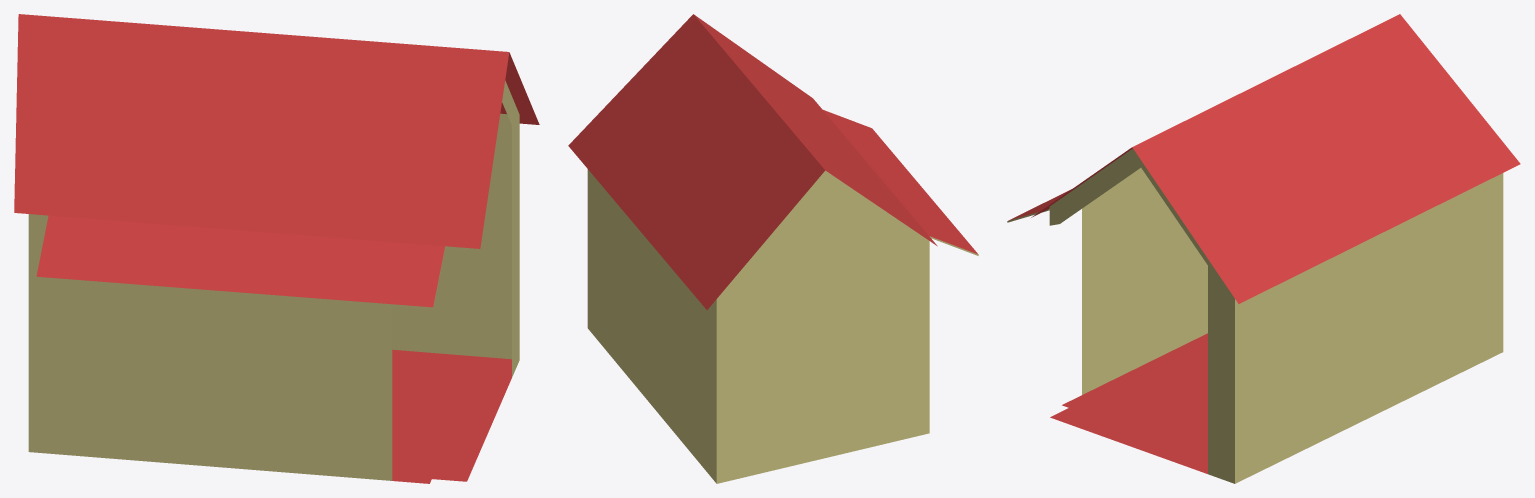
3 views of the same model, side by side, from view 1: azimuth 30°, elevation 25°; view 2: azimuth 150°, elevation 25°; view 3: azimuth 270°, elevation 25° (orthographic). The views are drawn at different scales.
Bounding box in the file's own units: 26.69 × 27.96 × 18.47.
